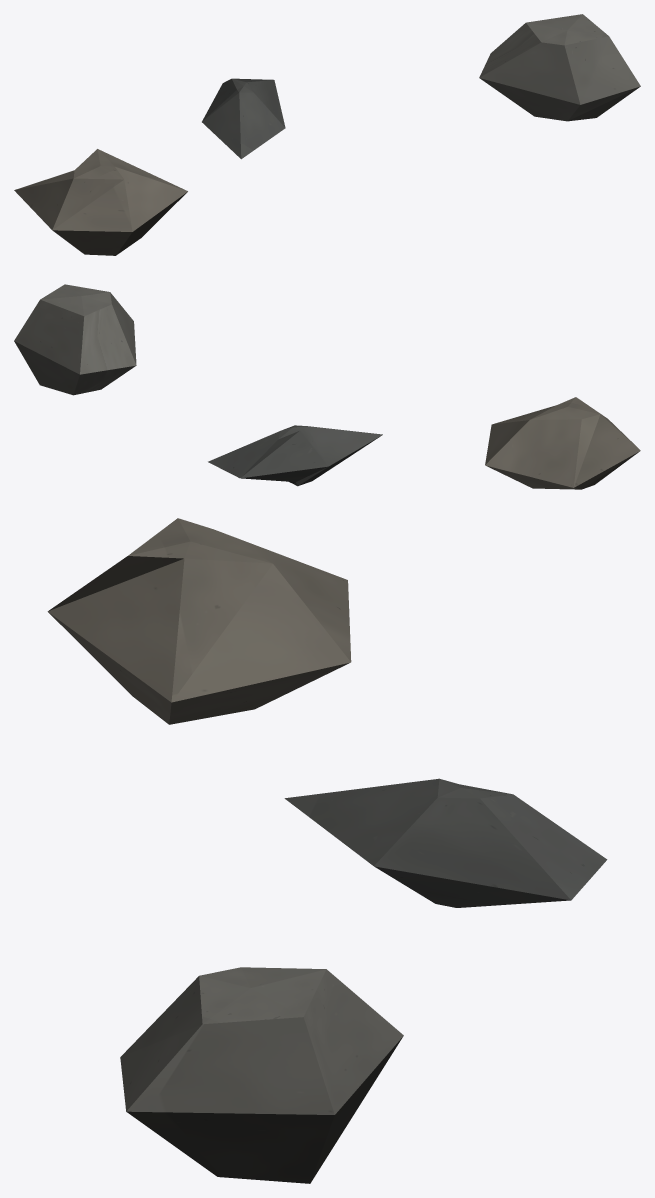
Rendered from DecorativeRockFormation3B.glb.
The picture shows the model from 3 angles, top to bottom: view 1: azimuth 30°, elevation 25°; view 2: azimuth 150°, elevation 25°; view 3: azimuth 270°, elevation 25°; orthographic projection. The views are drawn at different scales.
Visible parts, largest first — view 1: DecorativeRockFormation3B; view 2: DecorativeRockFormation3B; view 3: DecorativeRockFormation3B.
Boxes of the visible parts, x1=… form: DecorativeRockFormation3B: x1=14, y1=14, x2=640, y2=255; DecorativeRockFormation3B: x1=14, y1=284, x2=640, y2=489; DecorativeRockFormation3B: x1=47, y1=518, x2=607, y2=1183.
Size of the model in its own units: 2.04 by 0.2865 by 0.8571.
Materials: 9 (9 with a texture image).
